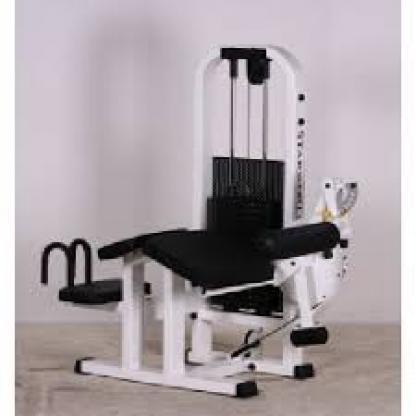reg curl machine: (38, 44, 357, 406)
